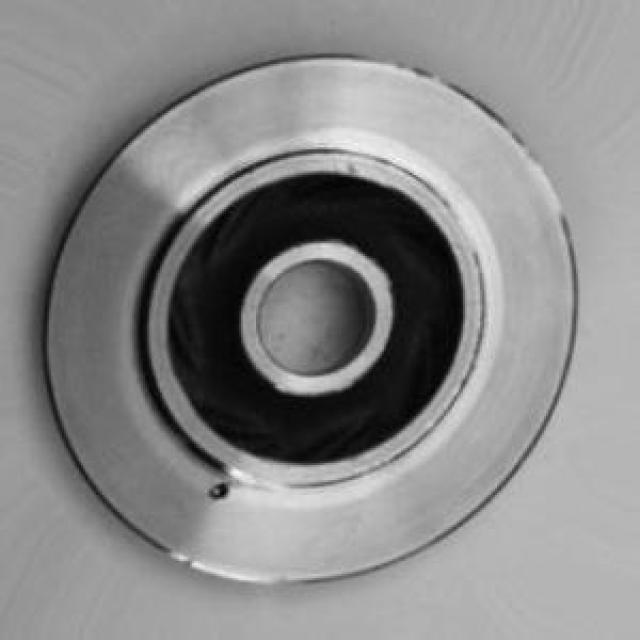Defect: (204, 467, 234, 510)
